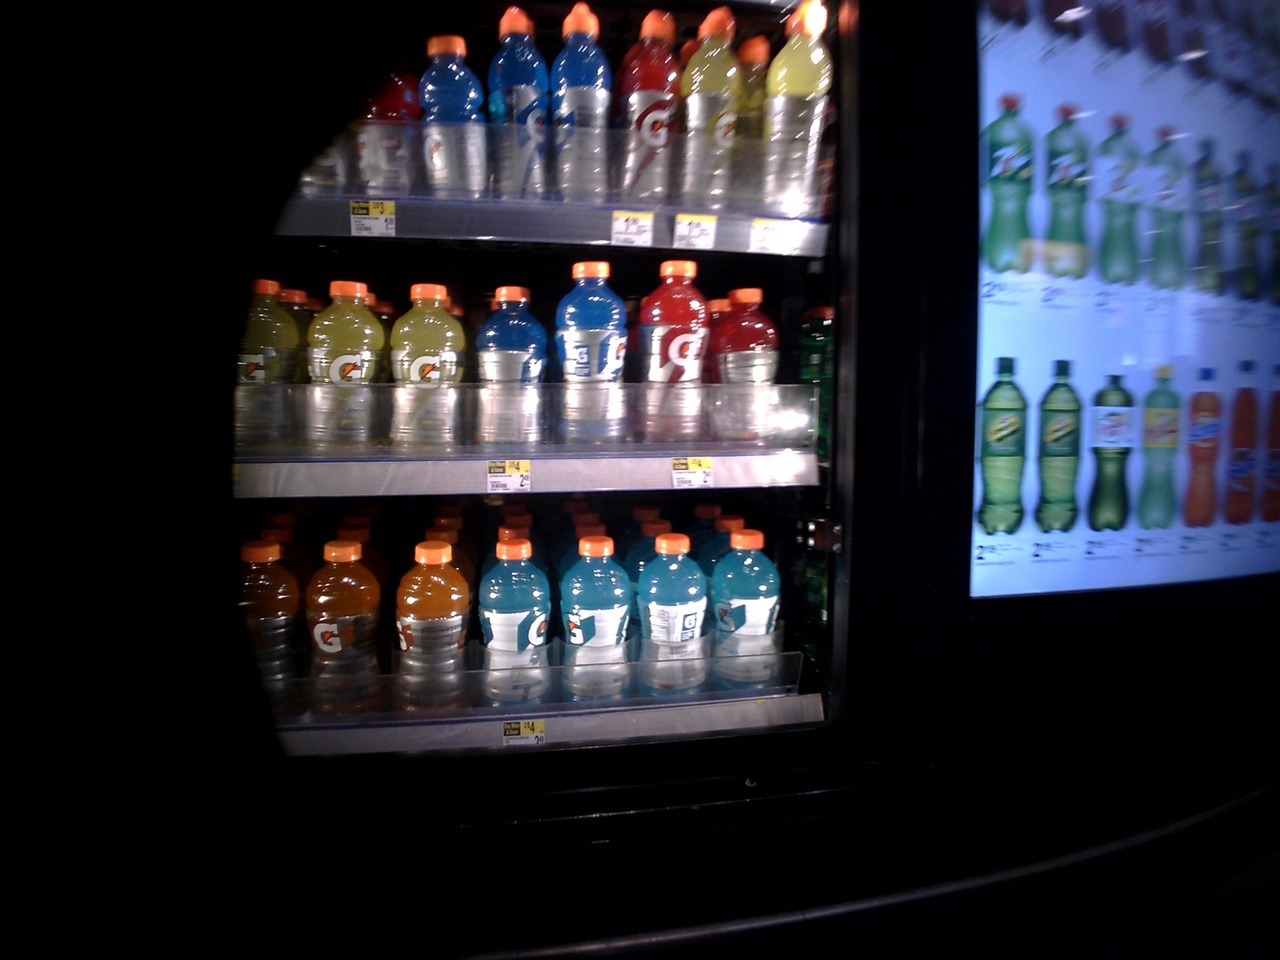shelf: (214, 1, 835, 250), (206, 495, 821, 736), (210, 260, 789, 483)
